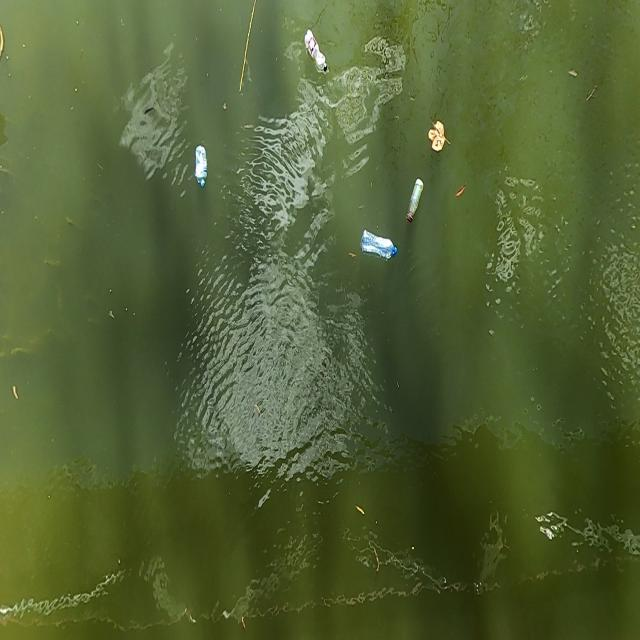Bouteille plastique: (302, 23, 334, 80), (359, 225, 400, 269), (401, 171, 430, 231), (185, 140, 216, 193)
